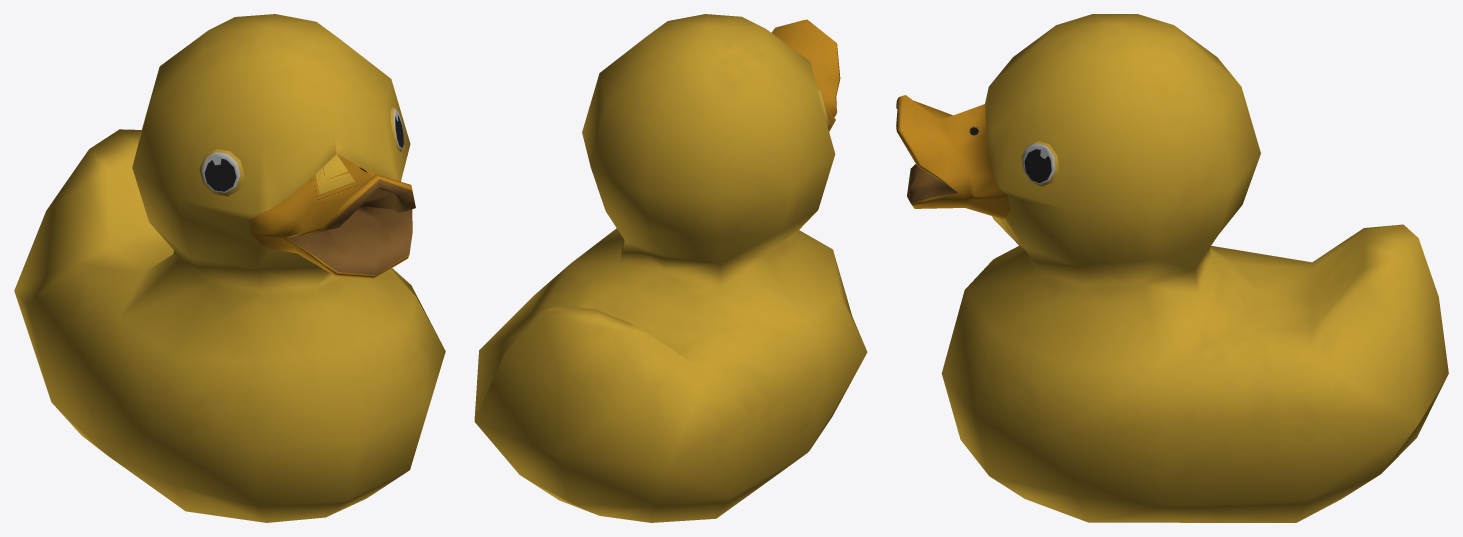
The model's file is duck.glb.
The picture shows the model from 3 angles, left to right: view 1: azimuth 30°, elevation 25°; view 2: azimuth 150°, elevation 25°; view 3: azimuth 270°, elevation 25°; orthographic projection. The views are drawn at different scales.
Visible parts, largest first — view 1: Ducky; view 2: Ducky; view 3: Ducky.
Boxes of the visible parts, x1=… form: Ducky: x1=14, y1=14, x2=445, y2=522; Ducky: x1=474, y1=14, x2=867, y2=522; Ducky: x1=896, y1=14, x2=1448, y2=522.
Bounding box in the file's own units: 24.12 × 32.03 × 35.68.
Materials: 1 (1 with a texture image).
